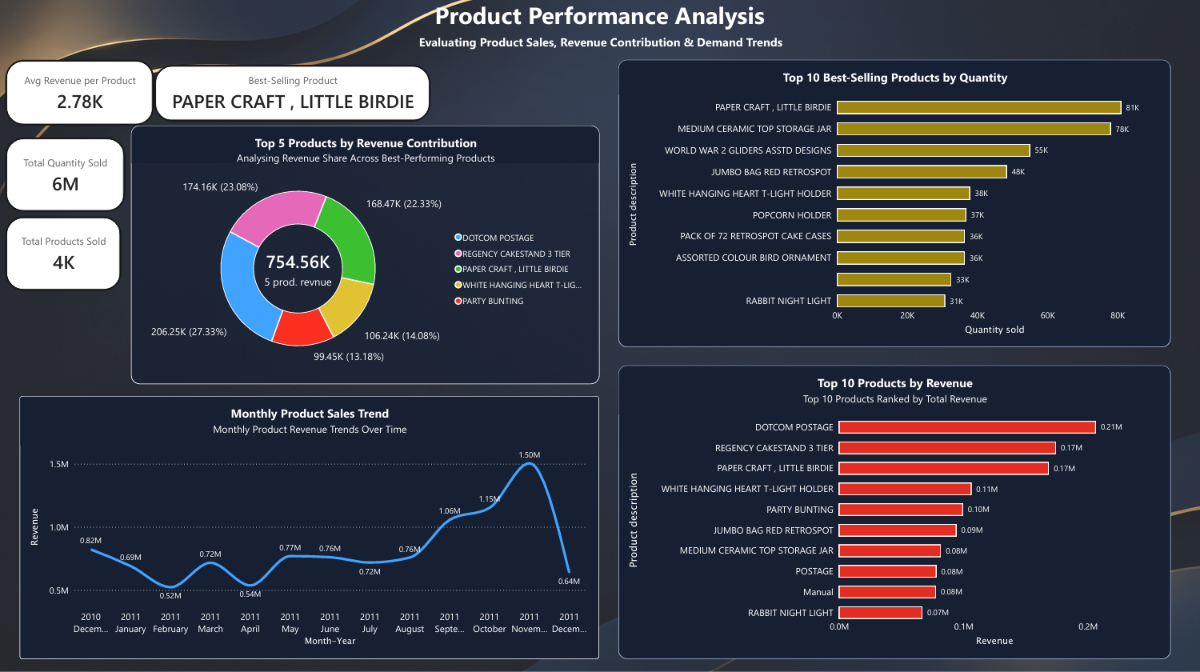

Layout of this report page (visuals, bound fields, positions):
{"tool":"powerbi","page":{"name":"Page 4","canvas":[1920,1080],"ordinal":3},"visuals":[{"type":"textbox","box":[10,0,280,280],"z":0},{"type":"textbox","box":[0,0,1920.4,55.6],"z":1000},{"type":"textbox","box":[0,55.6,1920.4,26.8],"z":2000},{"type":"cardVisual","fields":{"Data":["cleaned_online_retail.Total Products Sold"]},"box":[10.3,346.9,185.2,119.4],"z":3000},{"type":"cardVisual","fields":{"Data":["cleaned_online_retail.Average Revenue per Product"]},"box":[10.3,97.1,237.5,105.3],"z":4000},{"type":"cardVisual","fields":{"Data":["cleaned_online_retail.Best-Selling Product"]},"box":[247.8,105.3,442.5,90.6],"z":5000},{"type":"cardVisual","fields":{"Data":["cleaned_online_retail.Total Quantity Sold"]},"box":[10.3,221,191.4,119.4],"z":6000},{"type":"clusteredBarChart","title":"Top 10 Products by Revenue","fields":{"Category":["cleaned_online_retail.Description"],"Y":["Sum(cleaned_online_retail.TotalPrice)"]},"box":[990.1,584.6,883,469.3],"z":7000},{"type":"clusteredBarChart","title":"Top 10 Best-Selling Products by Quantity","fields":{"Category":["cleaned_online_retail.Description"],"Y":["Sum(cleaned_online_retail.Quantity)"]},"box":[990.1,96.7,883,459],"z":7001},{"type":"lineChart","title":"Monthly Product Sales Trend","fields":{"Category":["cleaned_online_retail.InvoiceDate.Variation.Date Hierarchy.Year","cleaned_online_retail.InvoiceDate.Variation.Date Hierarchy.Month"],"Y":["Sum(cleaned_online_retail.TotalPrice)"]},"box":[32.9,634,926.2,419.9],"z":7002},{"type":"donutChart","title":"Top 5 Products by Revenue Contribution","fields":{"Category":["cleaned_online_retail.Description"],"Y":["Sum(cleaned_online_retail.TotalPrice)"]},"box":[210.6,202.4,749.6,413],"z":7003}]}

Visuals, with their boxes in screenshot pixels (x1, y1, x2, y2), scaled from the page's 1920x1080 canvas onto the 1200x672 screenshot:
textbox: rect(6, 0, 181, 174)
textbox: rect(0, 0, 1199, 35)
textbox: rect(0, 35, 1199, 51)
cardVisual - cleaned_online_retail.Total Products Sold: rect(6, 216, 122, 290)
cardVisual - cleaned_online_retail.Average Revenue per Product: rect(6, 60, 155, 126)
cardVisual - cleaned_online_retail.Best-Selling Product: rect(155, 66, 431, 122)
cardVisual - cleaned_online_retail.Total Quantity Sold: rect(6, 138, 126, 212)
"Top 10 Products by Revenue" clusteredBarChart: rect(619, 364, 1171, 656)
"Top 10 Best-Selling Products by Quantity" clusteredBarChart: rect(619, 60, 1171, 346)
"Monthly Product Sales Trend" lineChart: rect(21, 394, 599, 656)
"Top 5 Products by Revenue Contribution" donutChart: rect(132, 126, 600, 383)
